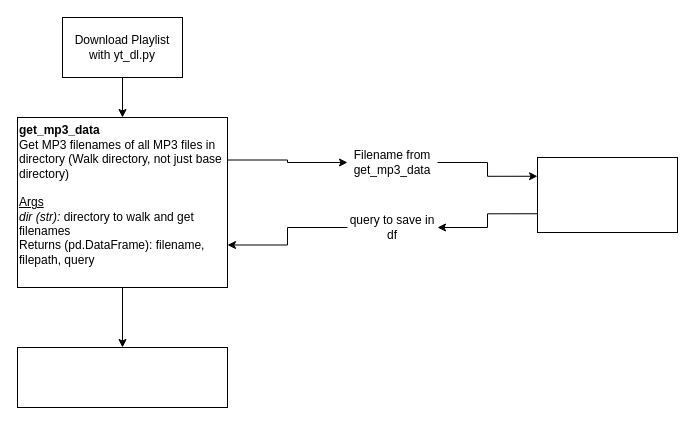
Image size: 695x425. Some labels were removed from this diagram. Here are the shapes that lost their labels. From the top down, the box of each, then its label:
(536, 156, 678, 232): create_itunes_query Refactors file name to use for Itunes API query
(16, 346, 228, 408): ss
